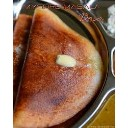dosa: (12, 4, 102, 123)
